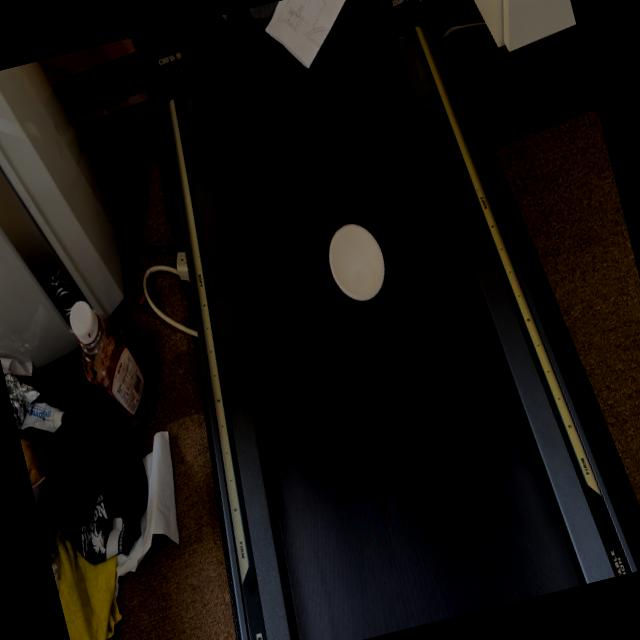Recycle: (318, 212, 394, 312)
